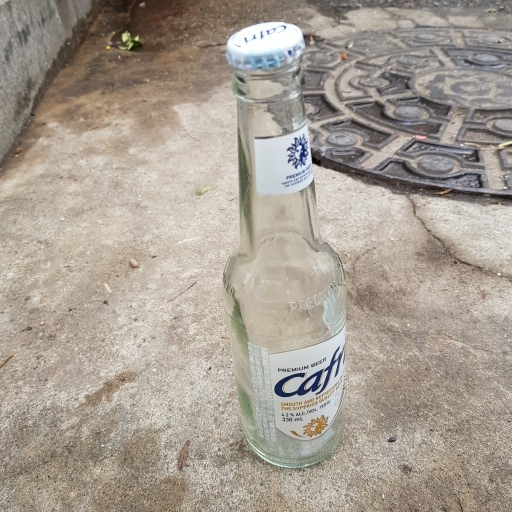Glass_1: (221, 20, 349, 466)
